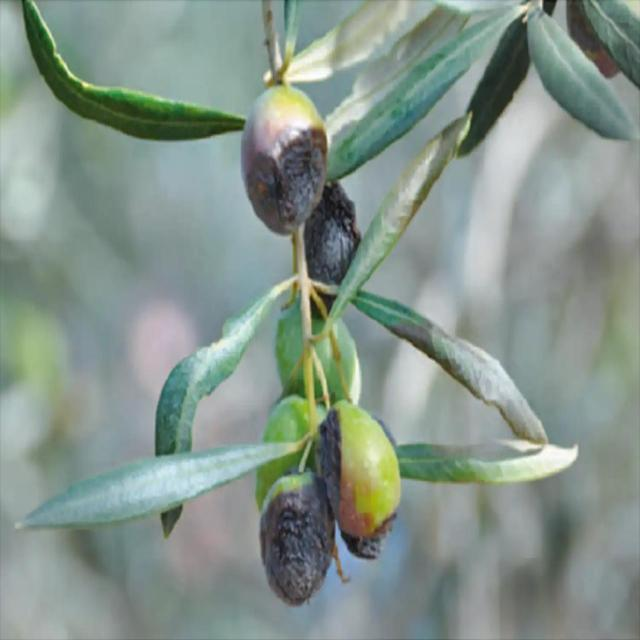Anthracnose: (315, 401, 400, 560), (241, 84, 328, 233), (260, 472, 336, 602)
